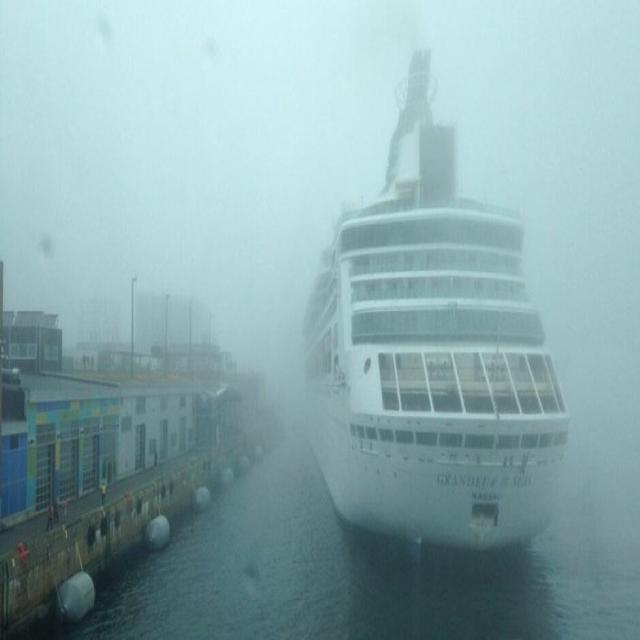passenger ship: (294, 44, 568, 548)
